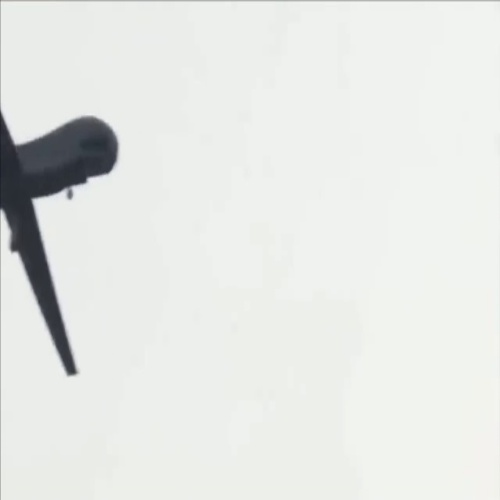uav: (1, 109, 125, 375)
